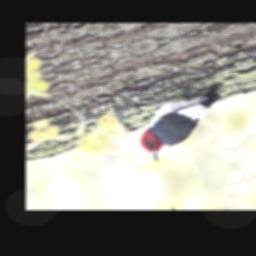Woodpecker: (129, 86, 238, 165)
